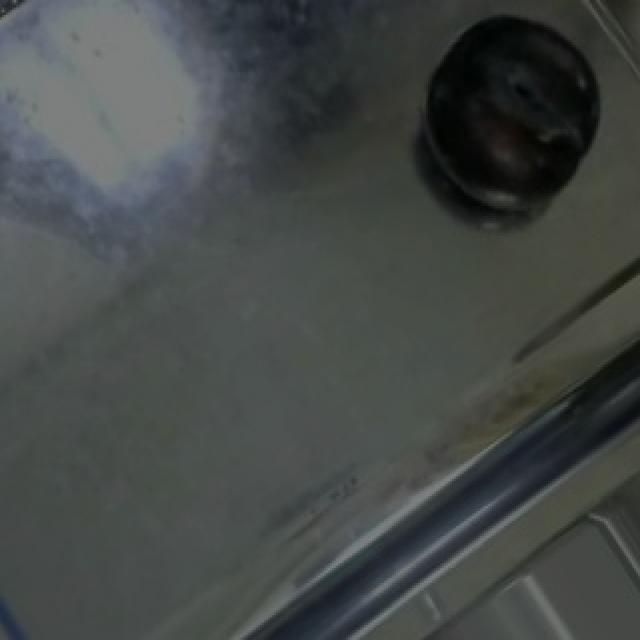Fruit: (410, 0, 612, 223), (0, 0, 50, 37)
